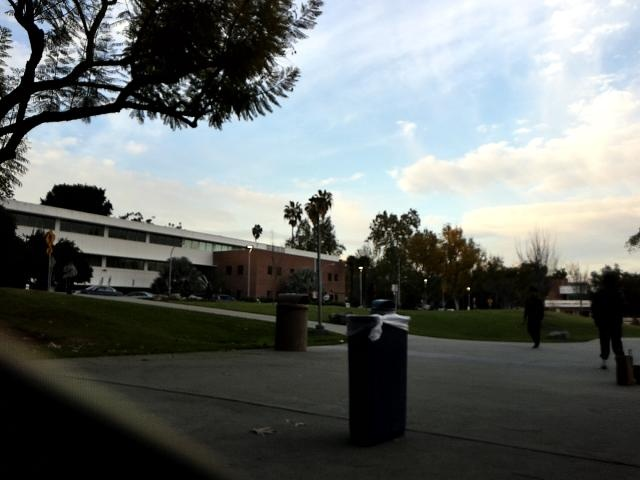trashcan_open: (346, 316, 410, 435)
